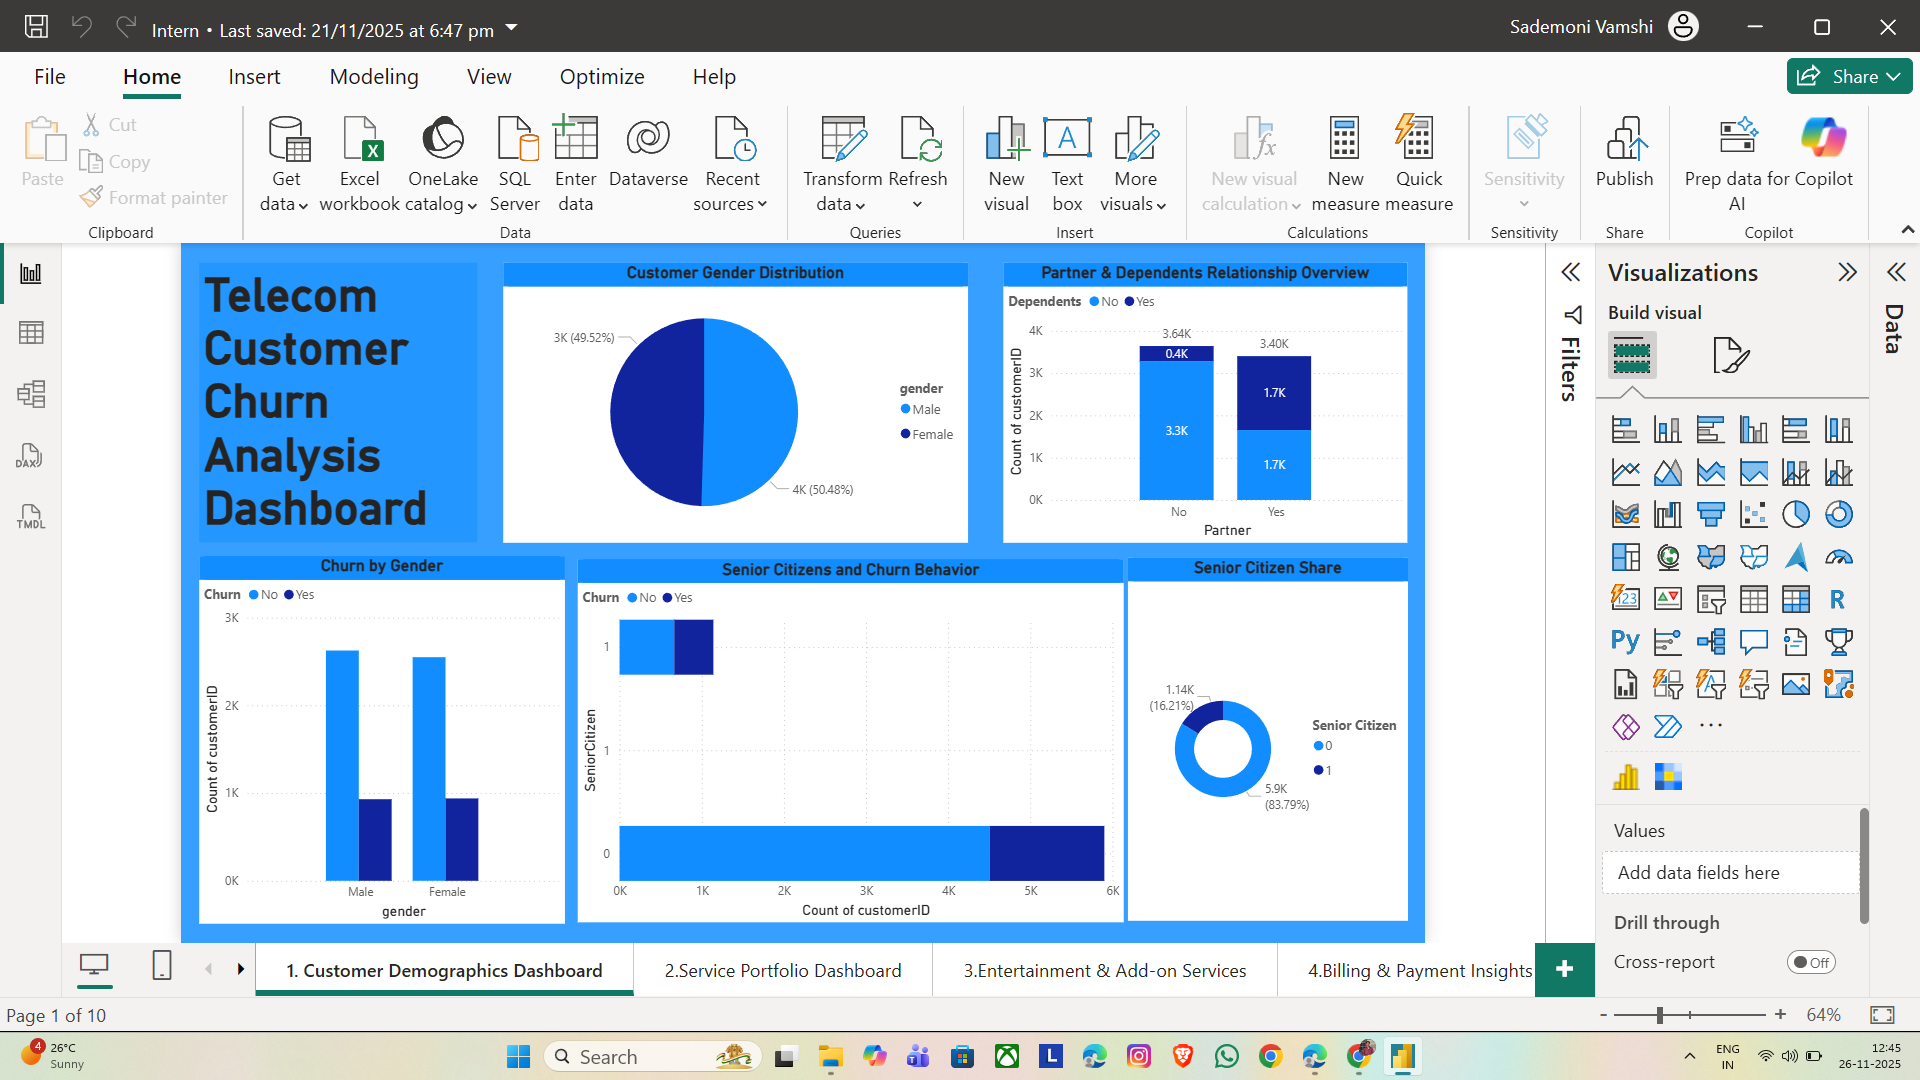

Layout of this report page (visuals, bound fields, positions):
{"tool":"powerbi","page":{"name":"1. Customer Demographics Dashboard","canvas":[1280,720],"ordinal":0},"visuals":[{"type":"pieChart","title":"Customer Gender Distribution","fields":{"Category":["Telco_Customer_Churn.gender"],"Y":["Telco_Customer_Churn.Gender Count"]},"box":[332,20,478,288],"z":0},{"type":"donutChart","title":"Senior Citizen Share","fields":{"Y":["CountNonNull(Telco_Customer_Churn.customerID)"],"Category":["Telco_Customer_Churn.SeniorCitizen"]},"box":[974,324,288,374],"z":1000},{"type":"columnChart","title":"Partner & Dependents Relationship Overview","fields":{"Category":["Telco_Customer_Churn.Partner"],"Y":["CountNonNull(Telco_Customer_Churn.customerID)"],"Series":["Telco_Customer_Churn.Dependents"]},"box":[846,20,416,288],"z":2000},{"type":"clusteredColumnChart","title":"Churn by Gender","fields":{"Category":["Telco_Customer_Churn.gender"],"Y":["CountNonNull(Telco_Customer_Churn.customerID)"],"Series":["Telco_Customer_Churn.Churn"]},"box":[18,322,376,378],"z":3000},{"type":"barChart","title":"Senior Citizens and Churn Behavior","fields":{"Category":["Telco_Customer_Churn.SeniorCitizen"],"Series":["Telco_Customer_Churn.Churn"],"Y":["CountNonNull(Telco_Customer_Churn.customerID)"]},"box":[408,326,562,374],"z":4000},{"type":"textbox","box":[18.8,20.3,286.2,287.8],"z":5000}]}

Visuals, with their boxes on the page's 1280x720 design canvas (x1, y1, x2, y2). These are canvas units, not pixel positions in the 1920x1080 screenshot, which may show the page scaled, cropped or inside an application window:
"Customer Gender Distribution" pieChart: 332, 20, 810, 308
"Senior Citizen Share" donutChart: 974, 324, 1262, 698
"Partner & Dependents Relationship Overview" columnChart: 846, 20, 1262, 308
"Churn by Gender" clusteredColumnChart: 18, 322, 394, 700
"Senior Citizens and Churn Behavior" barChart: 408, 326, 970, 700
textbox: 19, 20, 305, 308
